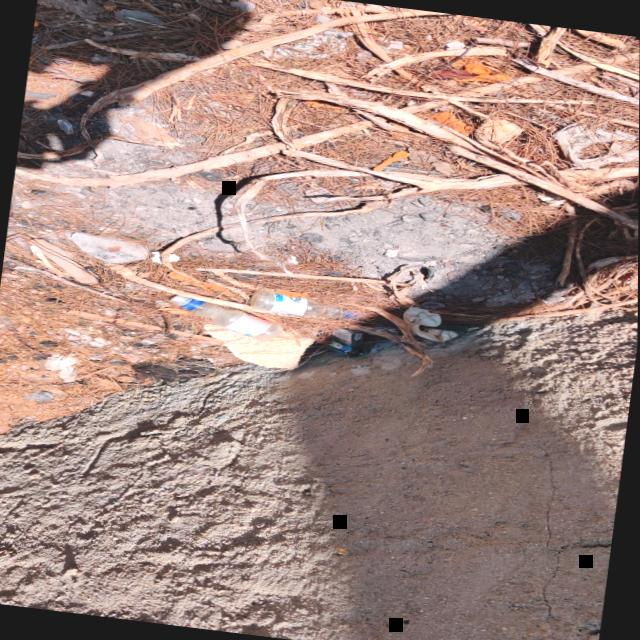Aluminium foil: (284, 256, 298, 264)
Clear plastic bottle: (169, 294, 284, 341), (251, 291, 362, 318)
Other carton: (326, 327, 363, 357)
Plastic bottle cap: (168, 295, 191, 305)
Scrap metal: (122, 15, 168, 27), (385, 166, 441, 173)
Styrofoam piece: (203, 323, 314, 368)
Unlabeled litter: (551, 123, 639, 169), (403, 306, 458, 342), (151, 251, 181, 264)
